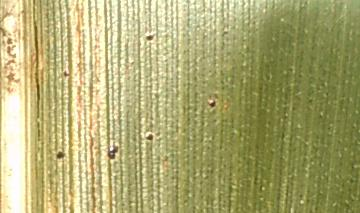tarspot: (103, 143, 122, 160), (54, 146, 67, 163), (142, 131, 158, 143), (61, 67, 73, 82), (144, 30, 157, 43), (207, 96, 217, 110)
